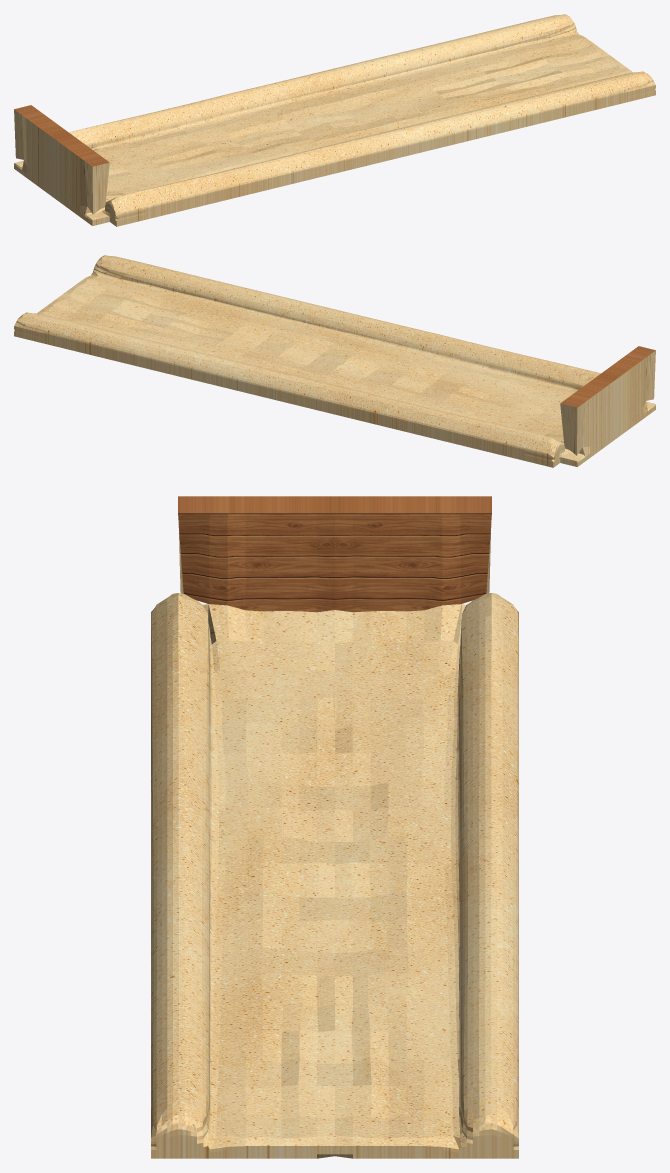
File: SandCourt.glb
3 renders of one model, top to bottom at view 1: azimuth 30°, elevation 25°; view 2: azimuth 150°, elevation 25°; view 3: azimuth 270°, elevation 25°, orthographic. The views are drawn at different scales.
Visible parts, largest first — view 1: CanchaPlaya; view 2: CanchaPlaya; view 3: CanchaPlaya.
Boxes of the visible parts, x1,y1,x2,y2 form: CanchaPlaya: [14, 14, 655, 226]; CanchaPlaya: [14, 255, 655, 467]; CanchaPlaya: [151, 496, 518, 1158].
Bounding box in the file's own units: 64.46 × 6.58 × 18.45.
Materials: 2 (2 with a texture image).
